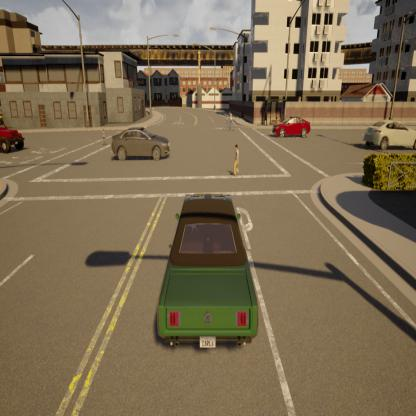Cars: (156, 190, 260, 350), (110, 126, 171, 162), (363, 120, 416, 150), (0, 114, 25, 152), (271, 115, 312, 138), (223, 109, 237, 130)
Pedestrian: (233, 143, 241, 179), (101, 127, 107, 147)
